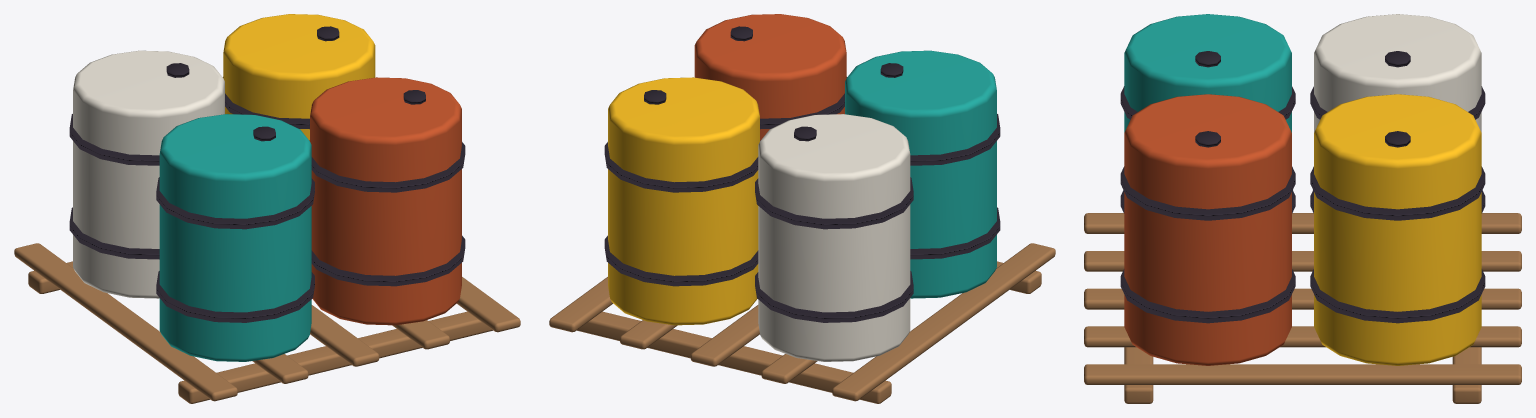
File: dune_barrels.glb
3 renders of one model, left to right at view 1: azimuth 30°, elevation 25°; view 2: azimuth 150°, elevation 25°; view 3: azimuth 270°, elevation 25°, orthographic. The views are drawn at different scales.
Visible parts, largest first — view 1: Barrels; view 2: Barrels; view 3: Barrels.
Boxes of the visible parts, <box> form: Barrels: <box>14,14,520,403</box>; Barrels: <box>549,14,1055,403</box>; Barrels: <box>1084,14,1521,403</box>.
Size of the model in its own units: 2.2 by 1.45 by 2.4.
